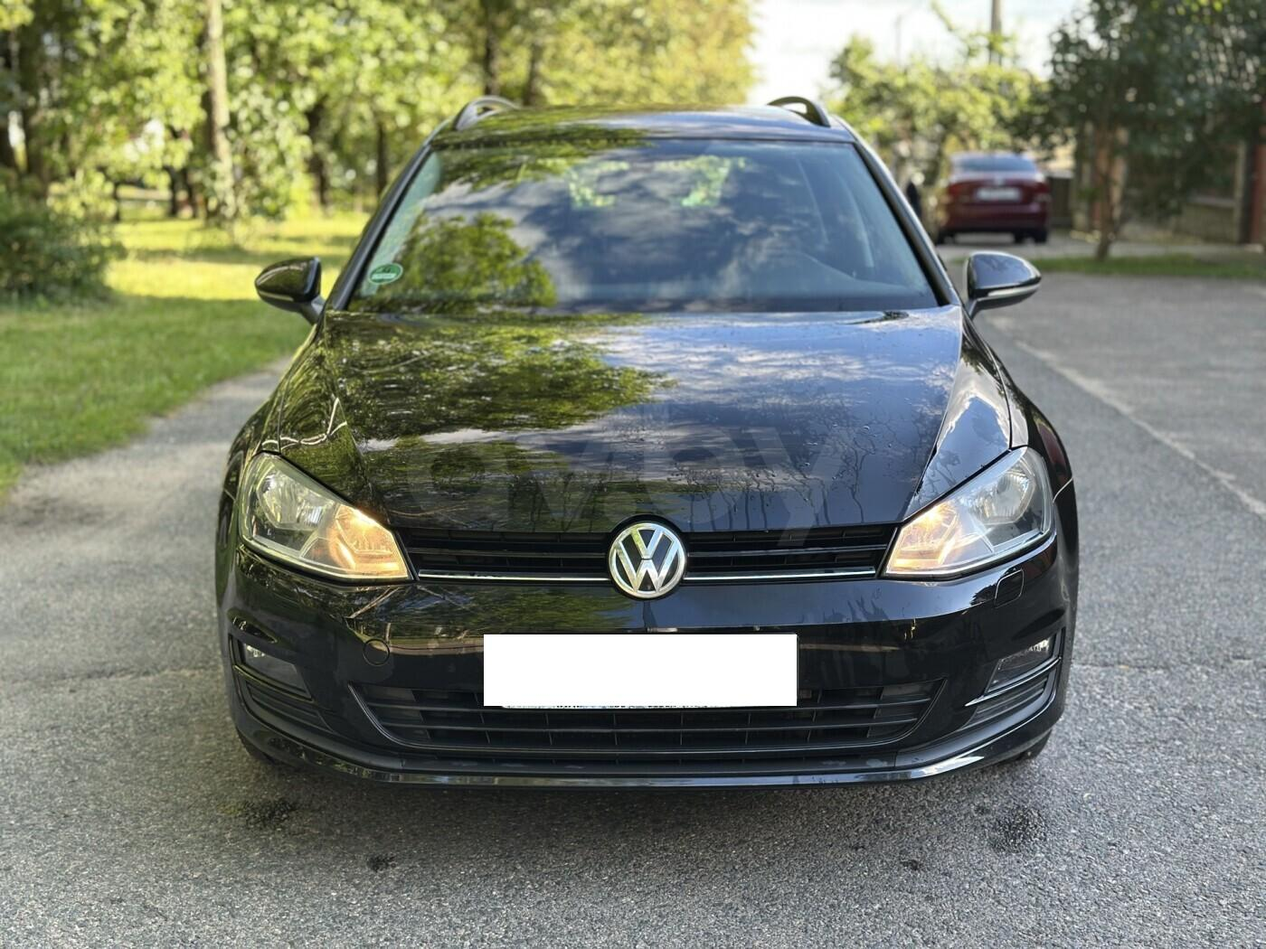Golf_2012-2017: (210, 94, 1089, 817)
